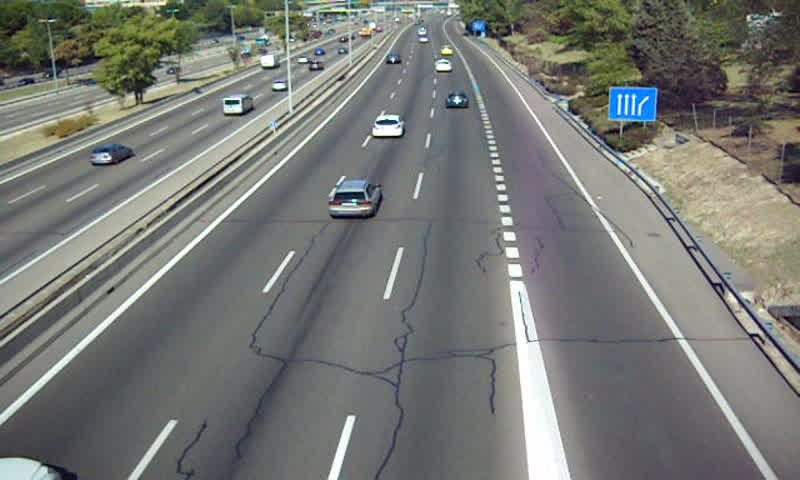car: (328, 181, 381, 217), (373, 115, 405, 137), (445, 91, 468, 110), (435, 59, 450, 73), (384, 53, 401, 64)
